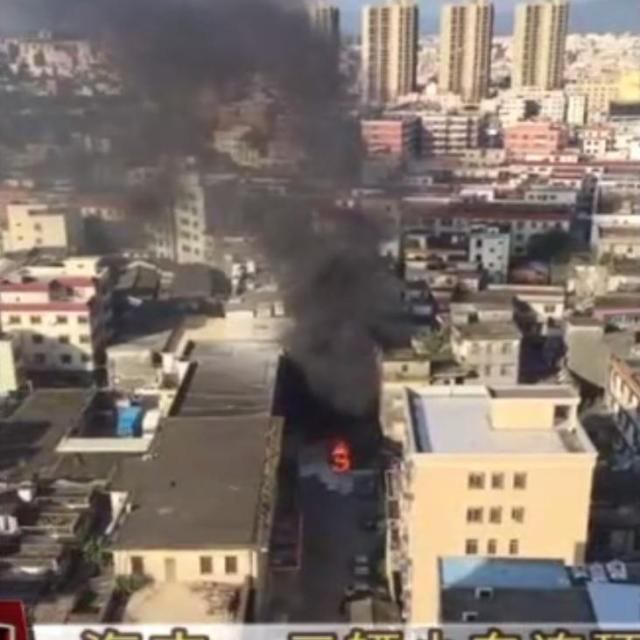Fire: (320, 432, 360, 478)
Smoke: (0, 0, 364, 186), (202, 190, 428, 408)
